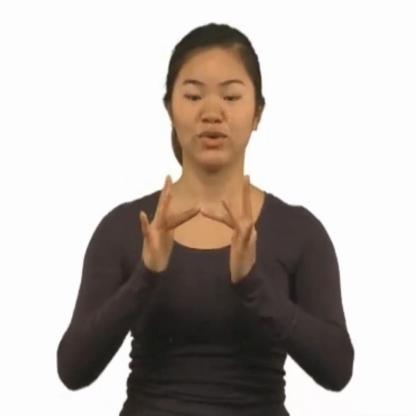Internet: (137, 167, 270, 291)
